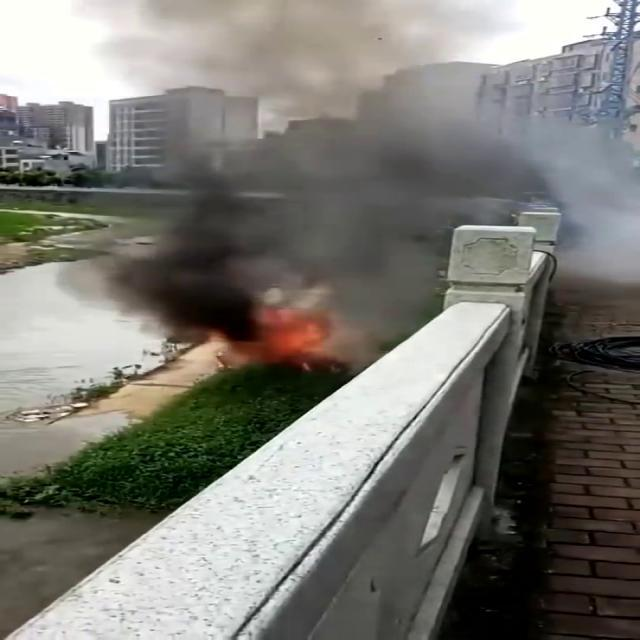Fire: (244, 310, 331, 363)
Smoke: (60, 0, 640, 351)
